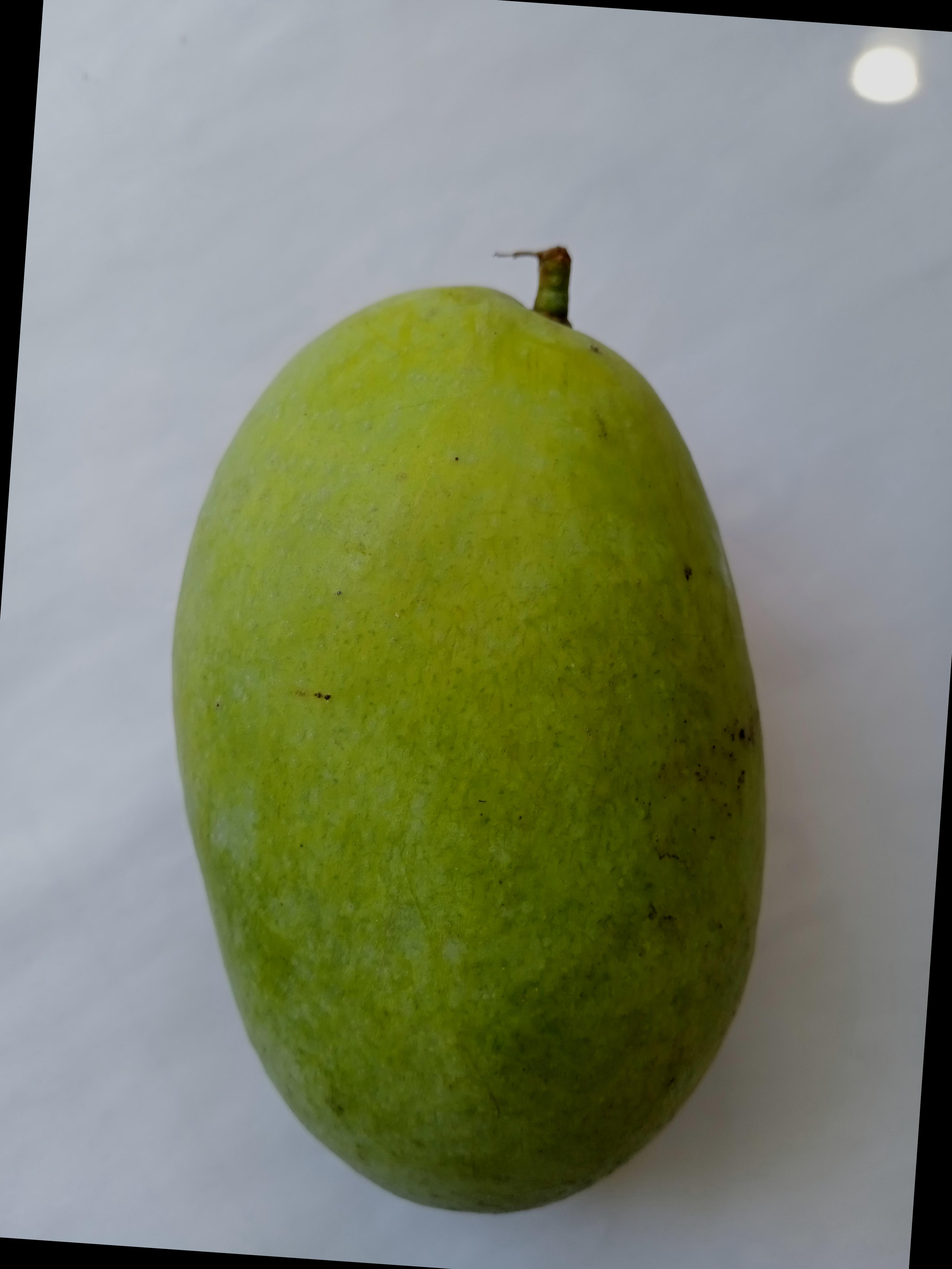Mango Unripe: (135, 103, 901, 1238)
